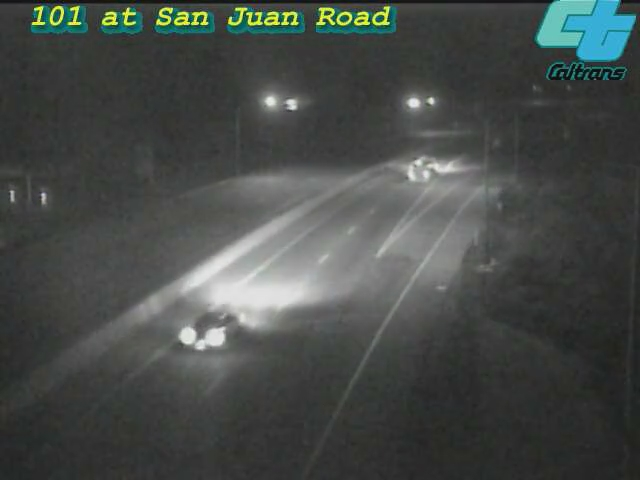vehicle: (154, 278, 264, 388), (385, 127, 465, 207)
